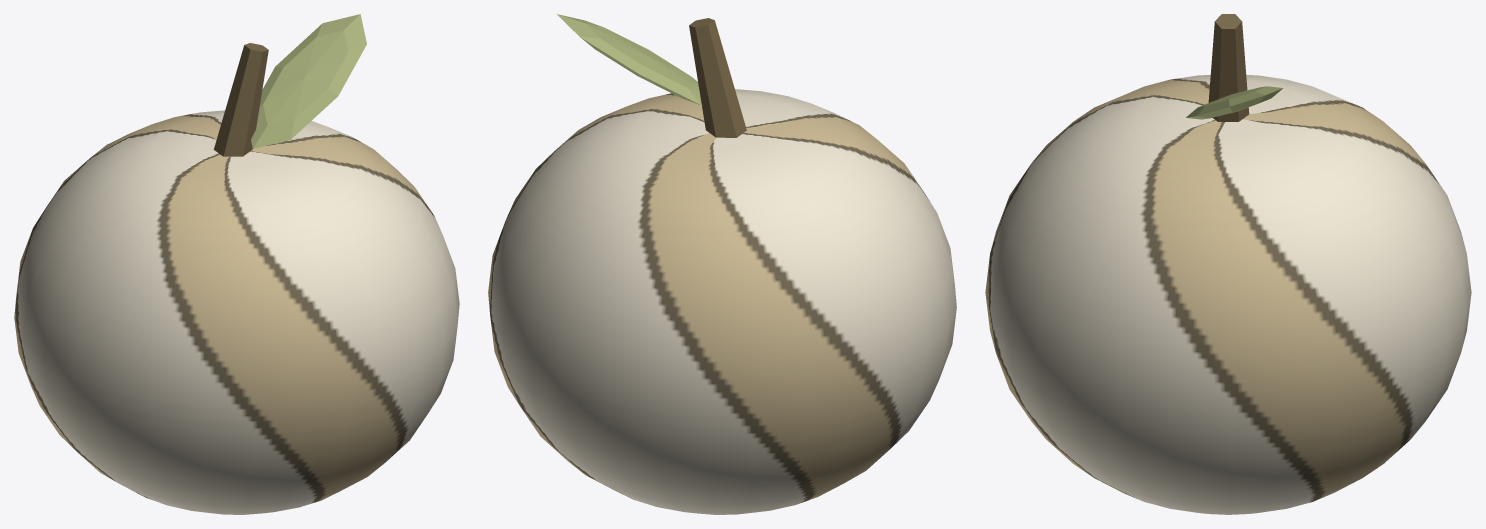
The model's file is Fruit_MochiMochi.fbx.
The picture shows the model from 3 angles, left to right: view 1: azimuth 30°, elevation 25°; view 2: azimuth 150°, elevation 25°; view 3: azimuth 270°, elevation 25°; orthographic projection. The views are drawn at different scales.
Parts seen in each view (by area): view 1: Fruit_MochiMochi; view 2: Fruit_MochiMochi; view 3: Fruit_MochiMochi.
Boxes of the visible parts, x1,y1,x2,y2 form: Fruit_MochiMochi: (14, 14, 459, 514); Fruit_MochiMochi: (488, 14, 956, 514); Fruit_MochiMochi: (985, 14, 1471, 514).
Bounding box in the file's own units: 1.6 × 1.75 × 1.6.
1 material, 1 textured.
